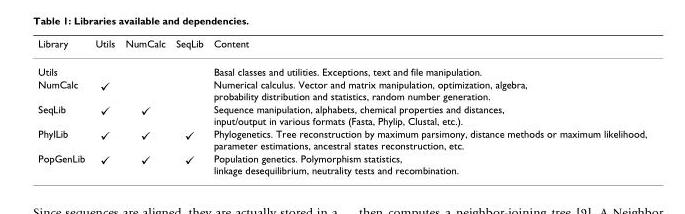table: (37, 37, 646, 175)
table column: (207, 37, 646, 175), (37, 37, 89, 175), (119, 37, 169, 175), (169, 37, 207, 175), (89, 37, 119, 175)
table column header: (37, 37, 646, 57)
table row: (37, 77, 646, 102), (37, 126, 646, 151), (37, 102, 646, 126), (37, 151, 646, 175), (37, 37, 646, 57), (37, 57, 646, 77)
